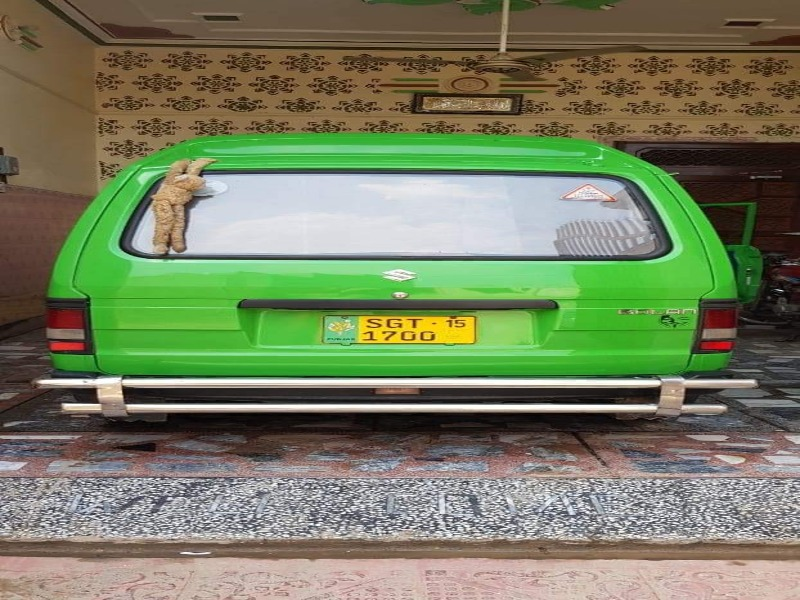License Plate: (320, 311, 482, 348)
